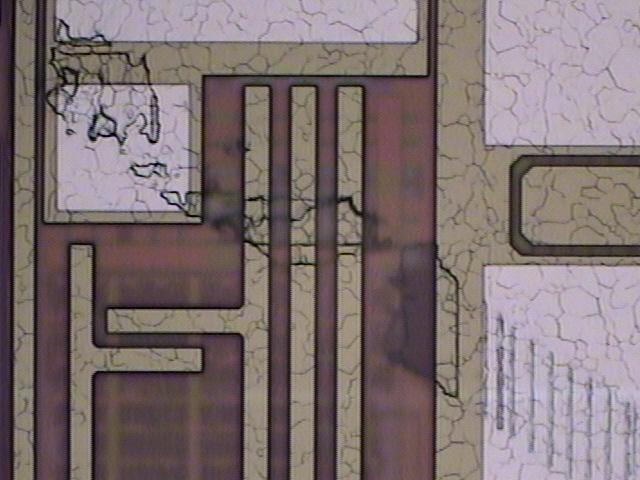SCRATCH: (38, 15, 640, 480)
